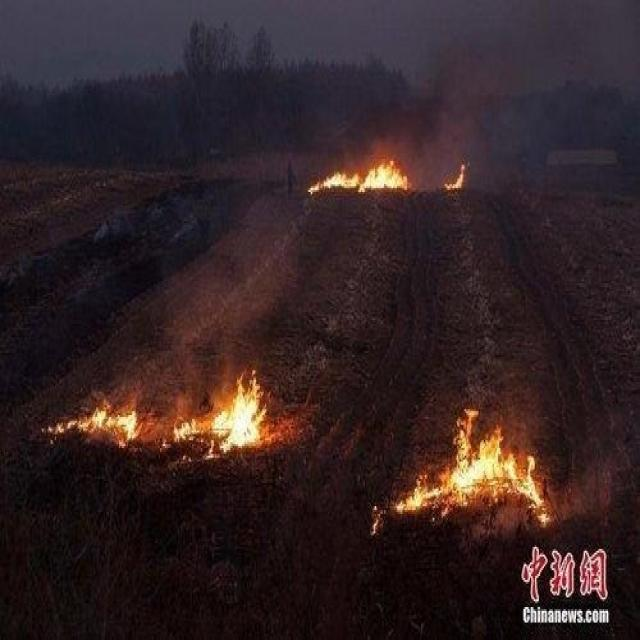Fire: (368, 405, 552, 539), (159, 366, 269, 464), (40, 402, 144, 449), (307, 161, 408, 196), (442, 163, 466, 192)
